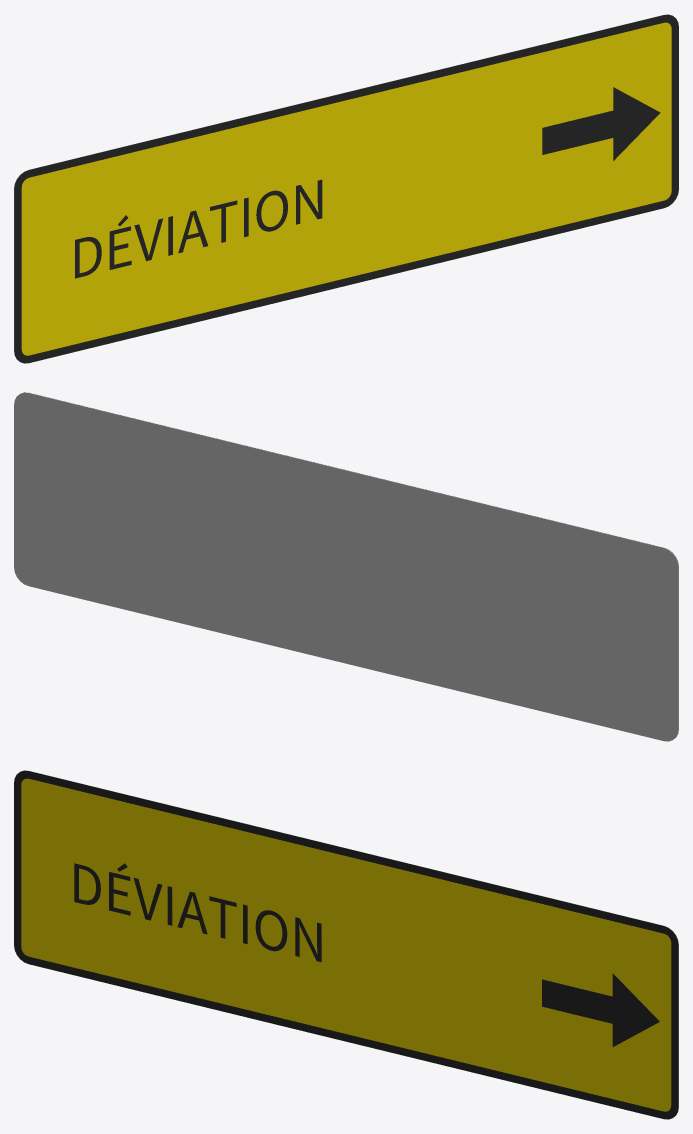
3 renders of one model, top to bottom at view 1: azimuth 30°, elevation 25°; view 2: azimuth 150°, elevation 25°; view 3: azimuth 330°, elevation 25°, orthographic.
Visible parts, largest first — view 1: KD21a_fond01, KD21a_cadre00, KD21a_fl02, KD21a_txt03, KD21a_dos; view 2: KD21a_dos; view 3: KD21a_fond01, KD21a_cadre00, KD21a_fl02, KD21a_txt03, KD21a_dos.
Part boxes in pixels (bbox=[...]): KD21a_fond01: bbox=[21, 22, 671, 355]; KD21a_cadre00: bbox=[14, 14, 678, 363]; KD21a_fl02: bbox=[542, 87, 660, 160]; KD21a_txt03: bbox=[75, 179, 322, 278]; KD21a_dos: bbox=[14, 14, 669, 358]; KD21a_dos: bbox=[14, 392, 678, 741]; KD21a_fond01: bbox=[21, 778, 671, 1111]; KD21a_cadre00: bbox=[14, 770, 678, 1119]; KD21a_fl02: bbox=[542, 973, 659, 1046]; KD21a_txt03: bbox=[74, 863, 321, 962]; KD21a_dos: bbox=[23, 770, 678, 1114].
Size of the model in its own units: 1.8 by 0.5 by 0.0029.
